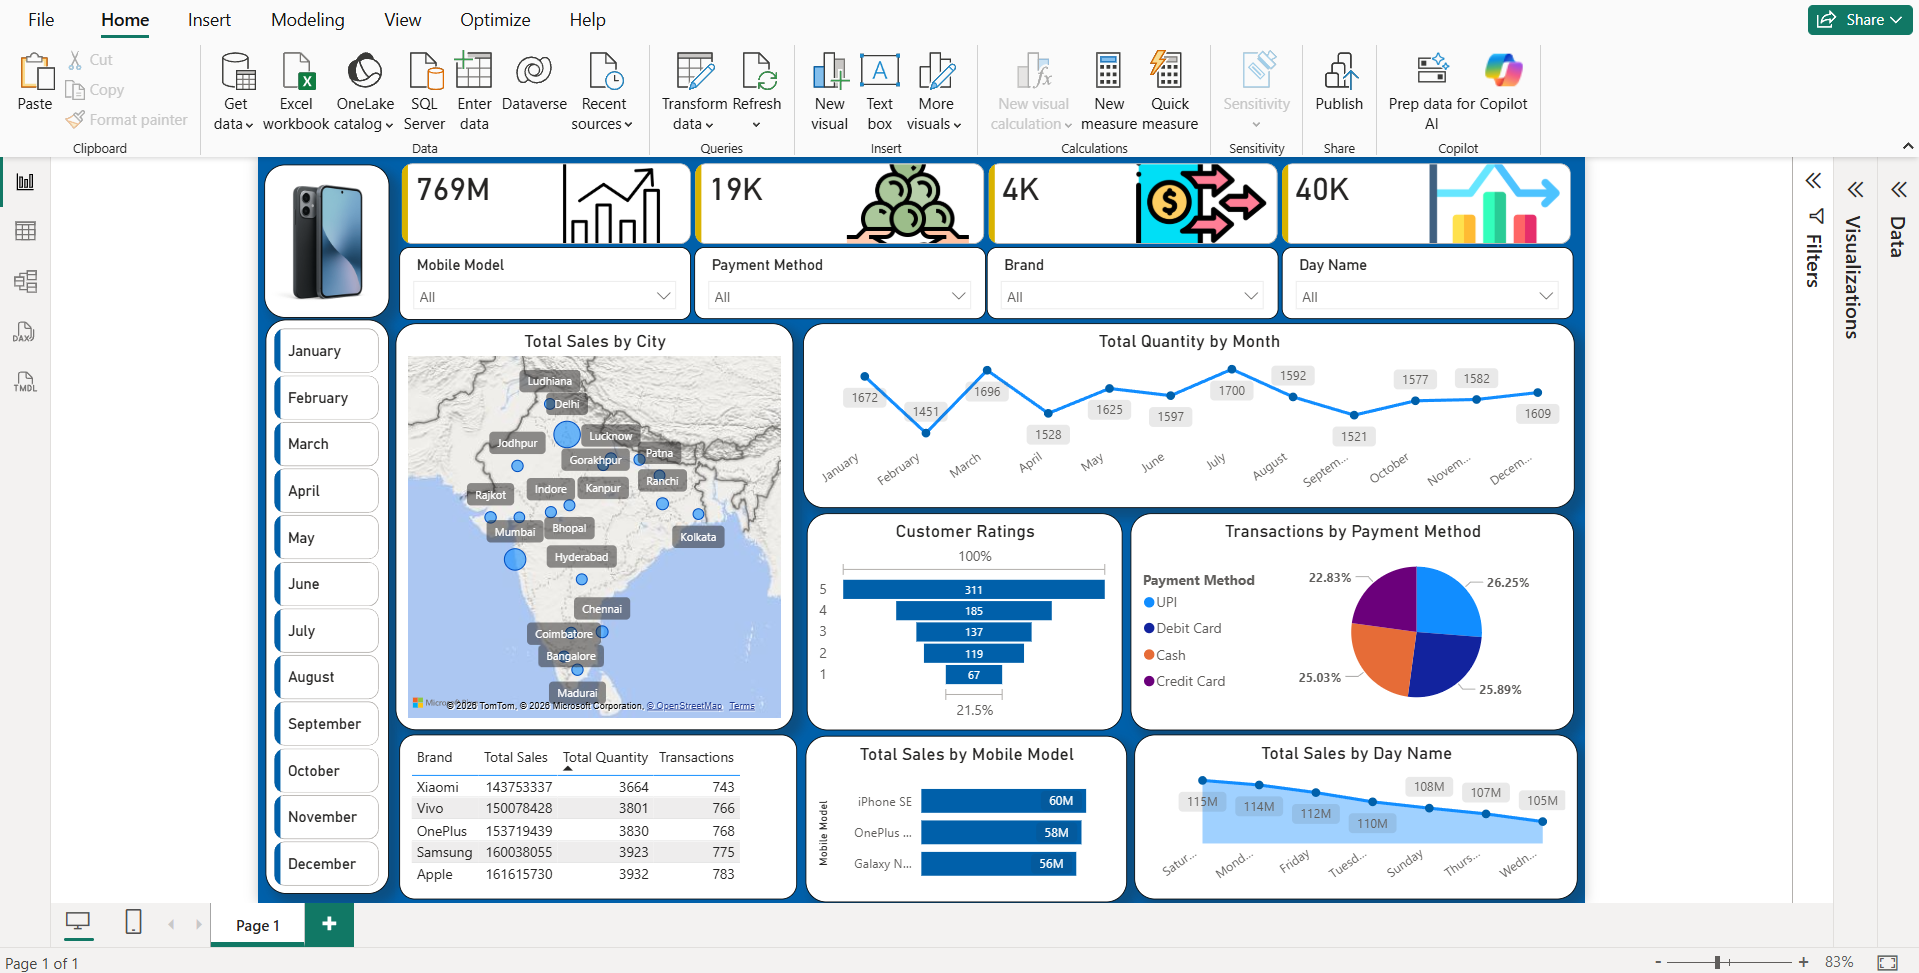

This screenshot's page, from the dashboard's own definition file:
{"tool":"powerbi","page":{"name":"Page 1","canvas":[1280,720],"ordinal":0},"visuals":[{"type":"shape","box":[5.5,6.9,120.8,148.2],"z":0},{"type":"shape","box":[6.9,156.4,119.4,554.4],"z":2000},{"type":"advancedSlicerVisual","fields":{"Values":["Sales_Data.Date.Variation.Date Hierarchy.Month"]},"box":[11,160.5,111.1,548.9],"z":3000},{"type":"cardVisual","fields":{"Data":["Sales_Data.Total Sales","Sales_Data.Total Quantity","Sales_Data.Transactions","Sales_Data.Average"]},"box":[134,5.6,1140.1,83.7],"z":4000},{"type":"map","fields":{"Category":["Sales_Data.City"],"Size":["Sales_Data.Total Sales"]},"box":[132.9,160.8,384.1,393.1],"z":5000},{"type":"lineChart","fields":{"Y":["Sales_Data.Total Quantity"],"Category":["Sales_Data.Date.Variation.Date Hierarchy.Month","Sales_Data.Date.Variation.Date Hierarchy.Day"]},"box":[525.9,160.8,744.8,178.7],"z":6000},{"type":"clusteredBarChart","fields":{"Category":["Sales_Data.Mobile Model"],"Y":["Sales_Data.Total Sales"]},"box":[528.3,558.5,310.1,160.5],"z":7000},{"type":"pieChart","fields":{"Category":["Sales_Data.Payment Method"],"Y":["Sales_Data.Transactions"]},"box":[842.5,344.4,428.1,209.9],"z":8000},{"type":"funnel","title":"Customer Ratings","fields":{"Category":["Sales_Data.Customer Ratings"],"Y":["CountNonNull(Sales_Data.Customer Ratings)"]},"box":[529.7,344.4,304.6,209.9],"z":9000},{"type":"areaChart","fields":{"Category":["Sales_Data.Day Name"],"Y":["Sales_Data.Total Sales"]},"box":[845.3,557.1,428.1,159.2],"z":10000},{"type":"tableEx","fields":{"Values":["Sales_Data.Brand","Sales_Data.Total Sales","Sales_Data.Total Quantity","Sales_Data.Transactions"]},"box":[135.8,557.1,384.2,159.2],"z":11000},{"type":"slicer","fields":{"Values":["Sales_Data.Mobile Model"]},"box":[136.2,87.1,281.4,70.3],"z":12000},{"type":"slicer","fields":{"Values":["Sales_Data.Payment Method"]},"box":[421,87.1,281.4,69.2],"z":13000},{"type":"slicer","fields":{"Values":["Sales_Data.Brand"]},"box":[703.5,87.1,281.4,69.2],"z":14000},{"type":"slicer","fields":{"Values":["Sales_Data.Day Name"]},"box":[988.2,87.1,281.4,69.2],"z":15000},{"type":"image","box":[0,6,136.3,150.8],"z":15001}]}

Visuals, with their boxes on the page's 1280x720 design canvas (x1, y1, x2, y2). These are canvas units, not pixel positions in the 1919x973 screenshot, which may show the page scaled, cropped or inside an application window:
shape: (x1=6, y1=7, x2=126, y2=155)
shape: (x1=7, y1=156, x2=126, y2=711)
advancedSlicerVisual - Sales_Data.Date.Variation.Date Hierarchy.Month: (x1=11, y1=160, x2=122, y2=709)
cardVisual - Sales_Data.Total Sales x Sales_Data.Total Quantity: (x1=134, y1=6, x2=1274, y2=89)
map - Sales_Data.City x Sales_Data.Total Sales: (x1=133, y1=161, x2=517, y2=554)
lineChart - Sales_Data.Total Quantity x Sales_Data.Date.Variation.Date Hierarchy.Month: (x1=526, y1=161, x2=1271, y2=340)
clusteredBarChart - Sales_Data.Mobile Model x Sales_Data.Total Sales: (x1=528, y1=558, x2=838, y2=719)
pieChart - Sales_Data.Payment Method x Sales_Data.Transactions: (x1=842, y1=344, x2=1271, y2=554)
"Customer Ratings" funnel: (x1=530, y1=344, x2=834, y2=554)
areaChart - Sales_Data.Day Name x Sales_Data.Total Sales: (x1=845, y1=557, x2=1273, y2=716)
tableEx - Sales_Data.Brand x Sales_Data.Total Sales: (x1=136, y1=557, x2=520, y2=716)
slicer - Sales_Data.Mobile Model: (x1=136, y1=87, x2=418, y2=157)
slicer - Sales_Data.Payment Method: (x1=421, y1=87, x2=702, y2=156)
slicer - Sales_Data.Brand: (x1=704, y1=87, x2=985, y2=156)
slicer - Sales_Data.Day Name: (x1=988, y1=87, x2=1270, y2=156)
image: (x1=0, y1=6, x2=136, y2=157)
